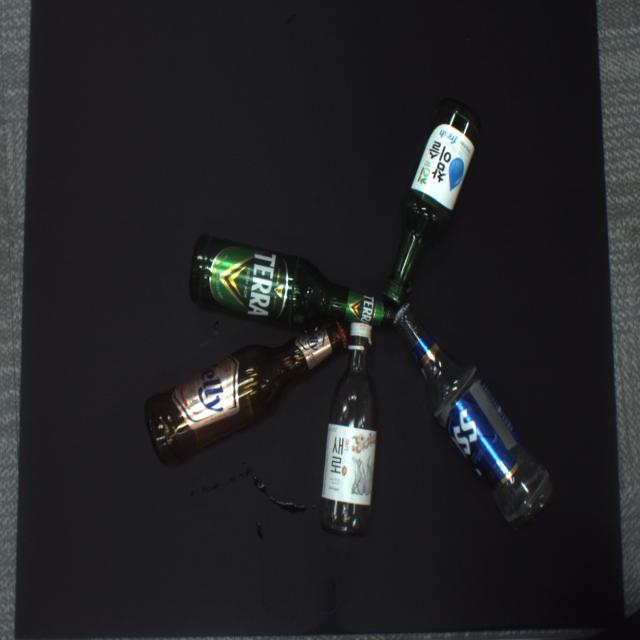beer-bottle: (393, 304, 555, 528), (146, 321, 348, 463), (190, 234, 393, 329)
soju-bottle: (383, 99, 483, 307), (320, 322, 377, 535)
